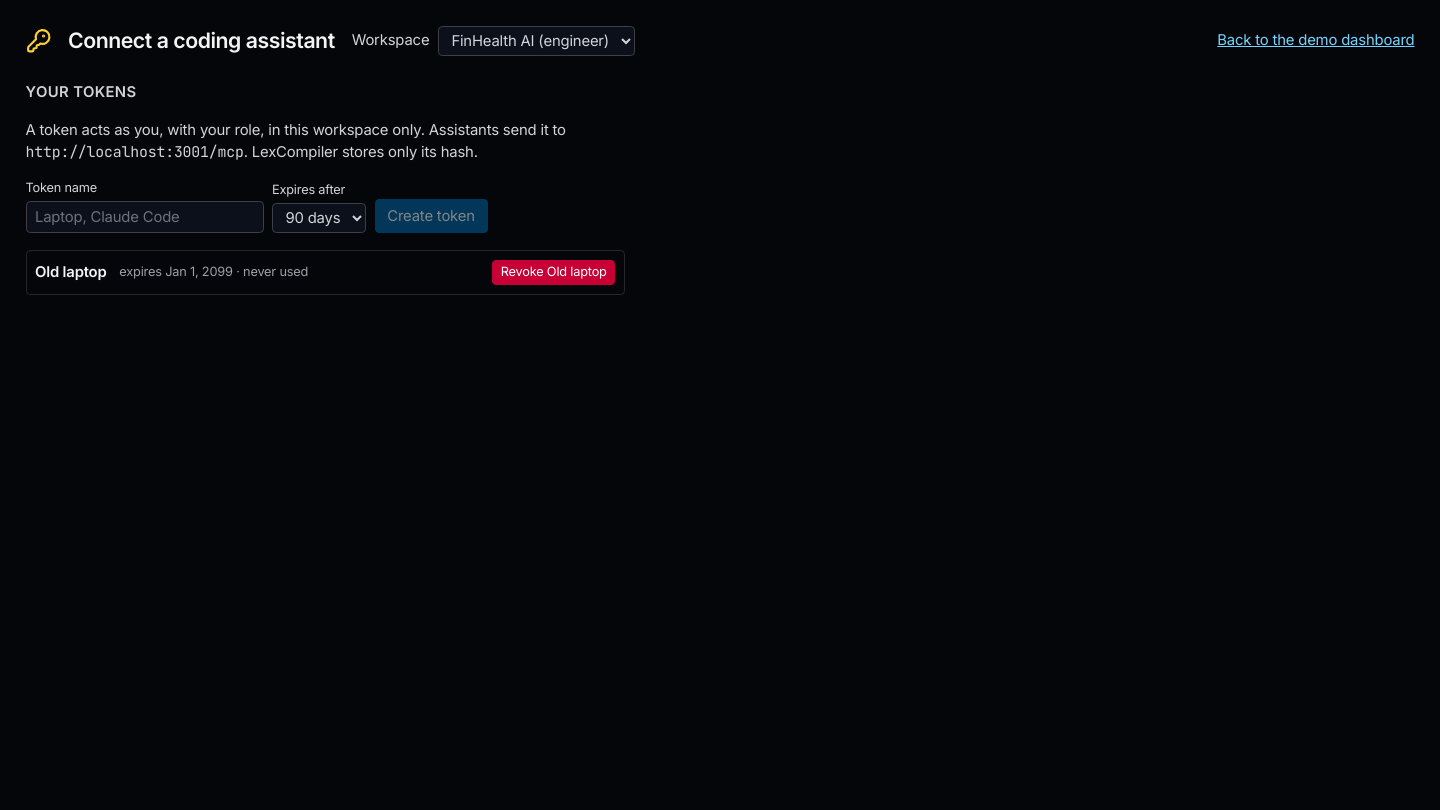
Test: AssistantSettings › creates a token, shows it once with a configuration, and revokes tokens
Expected: the list item with aria-label "Token Old laptop" is shown, [26,250,625,295]
Expected: the button "Create token" is disabled, [374,199,488,233]
Type "Laptop" into the field labelled "Token name" at (144, 217), box [26,202,264,233]
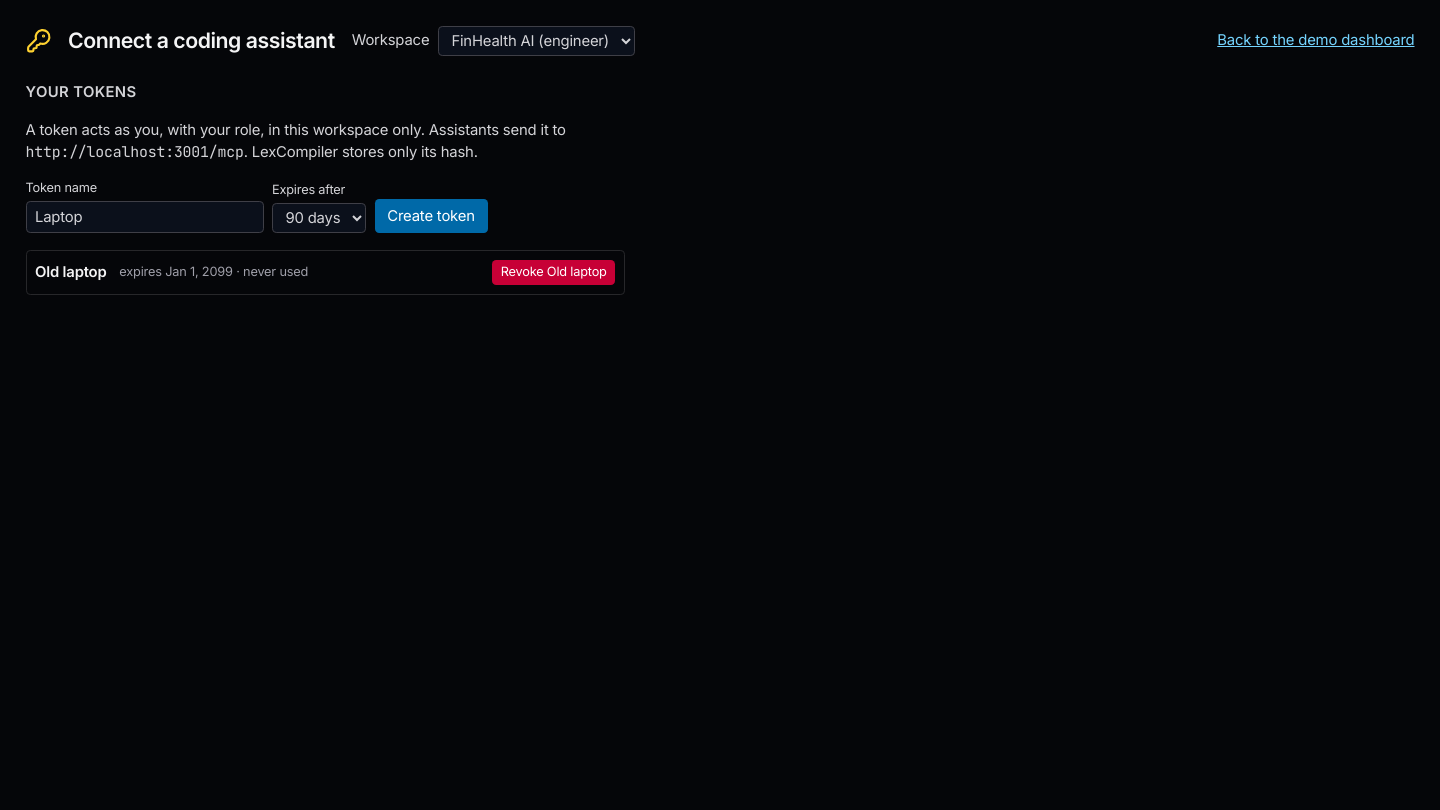
Click the button "Create token" at (431, 216), box [374,199,488,233]
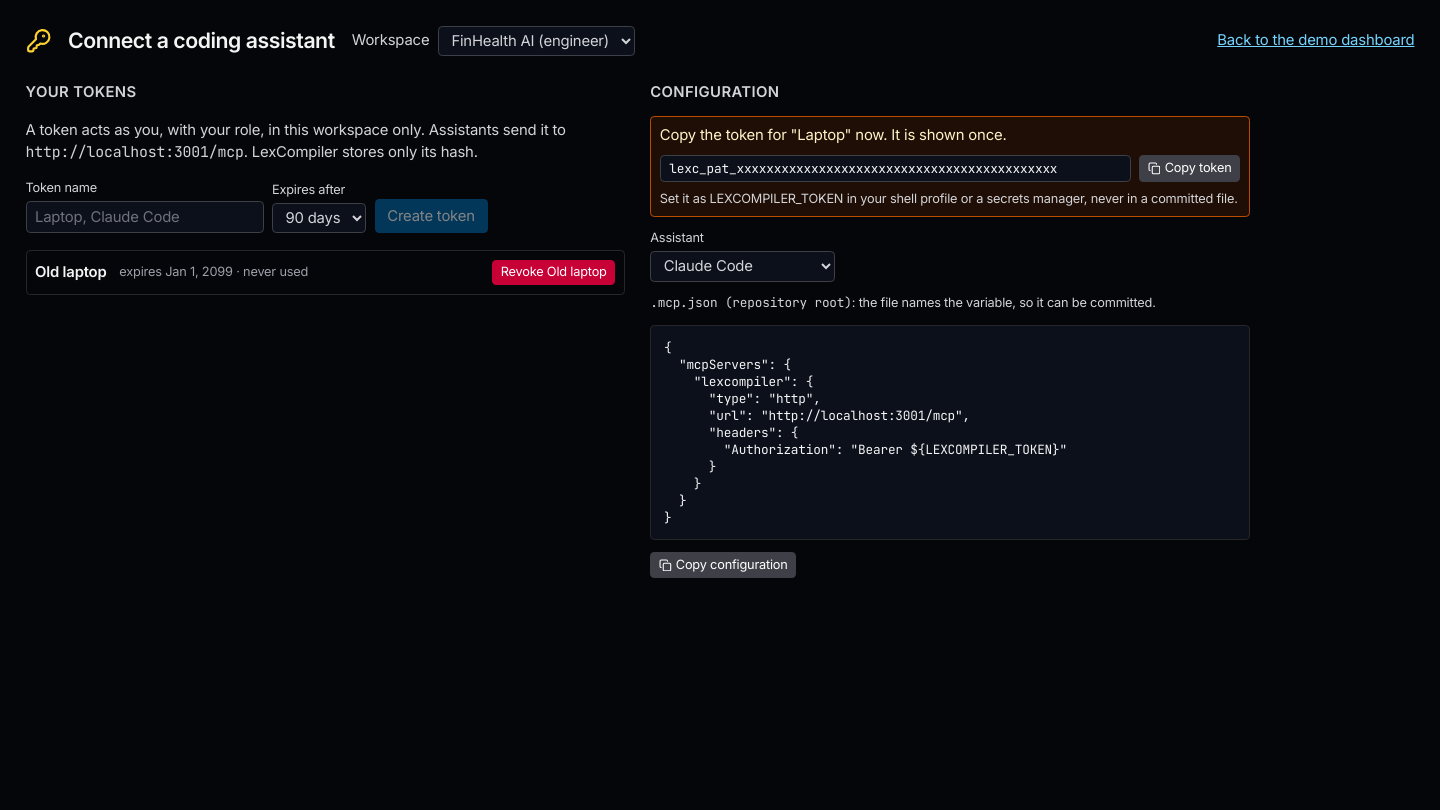
Result: the text named "Claude Code configuration" shows "${LEXCOMPILER_TOKEN}" at [664,339,1067,526]
Select "Antigravity" in the dropdown labelled "Assistant" at (743, 266), box [650,251,835,282]
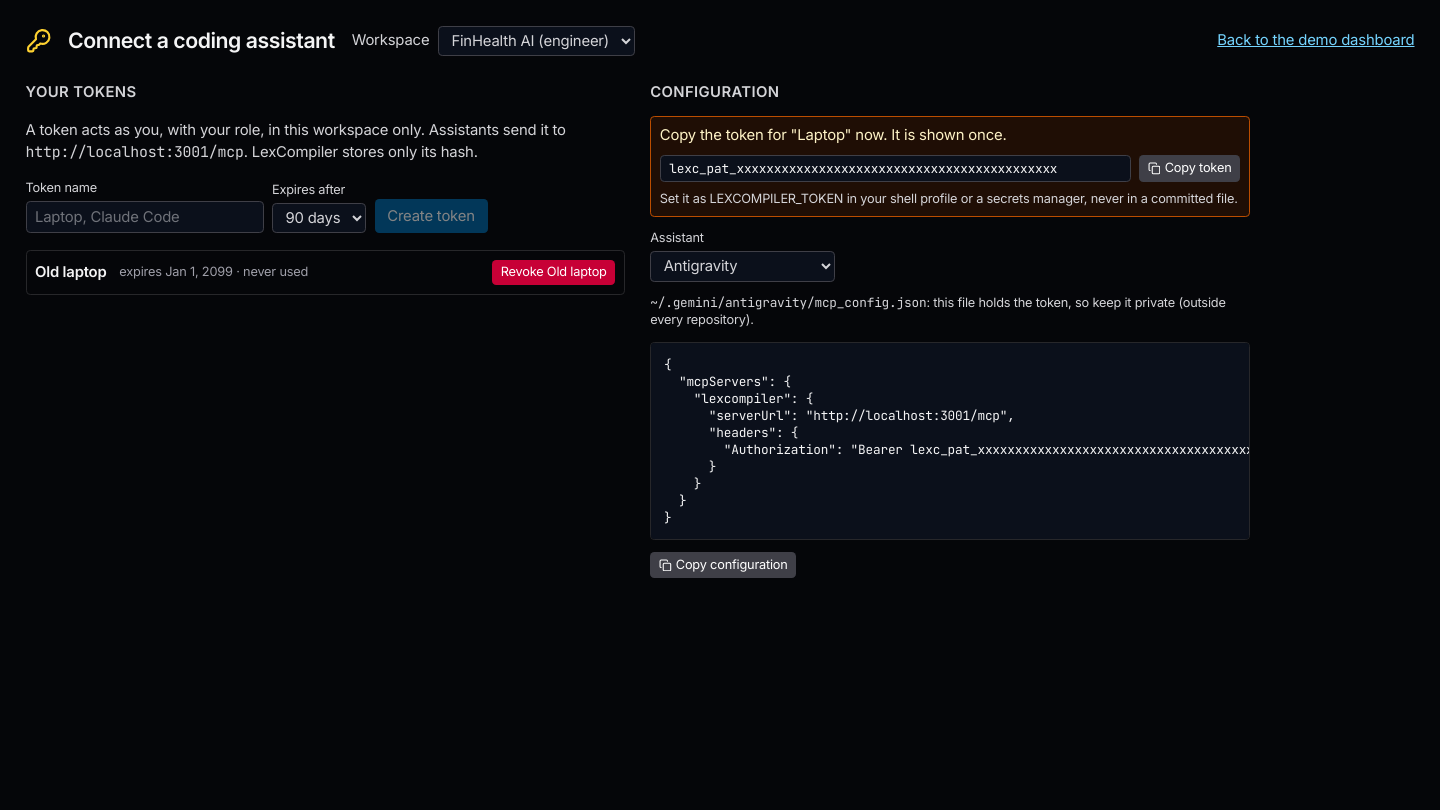
Result: the text "keep it private" is shown at [650,296,1226,328]
Click the button "Revoke Old laptop" at (554, 272), box [492,260,615,285]
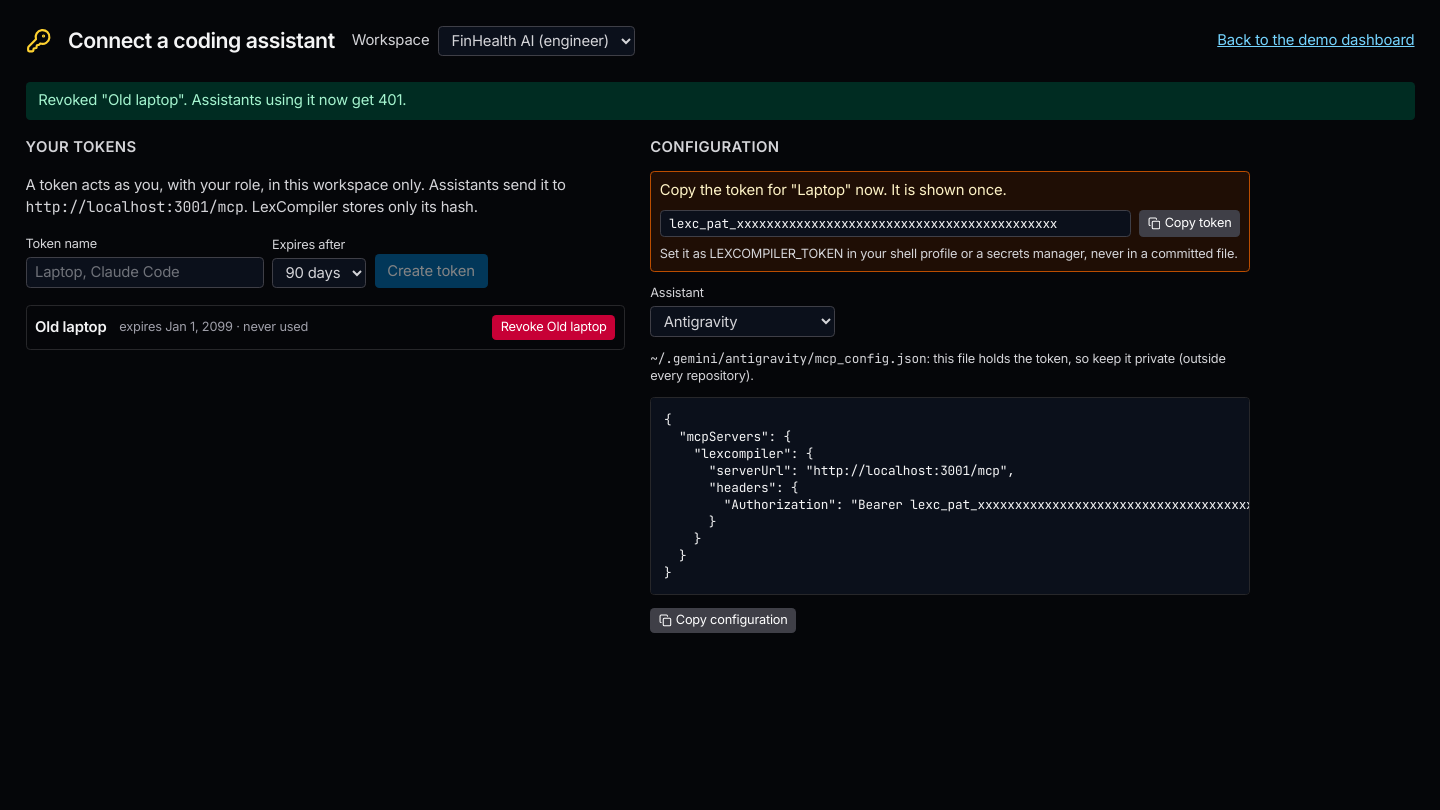
Result: the message shows "Revoked \"Old laptop\"" at [38,91,406,109]
